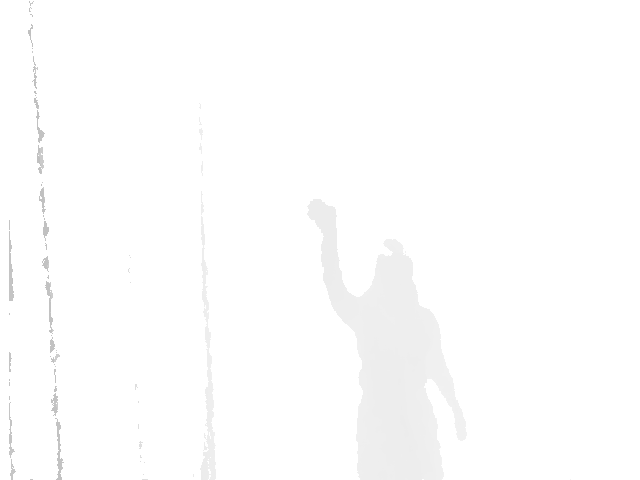hand: (306, 195, 342, 232)
head: (369, 235, 419, 308)
person: (306, 197, 470, 479)
